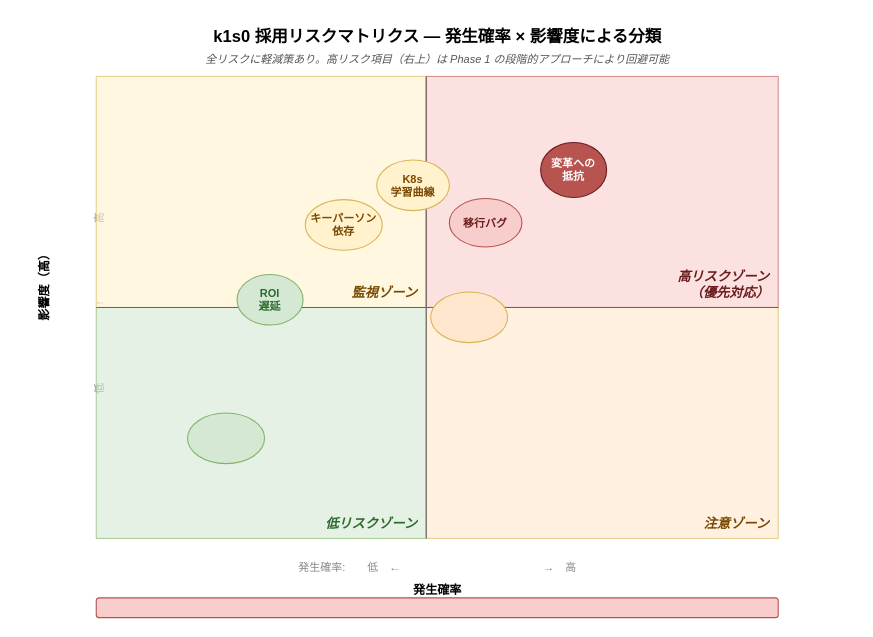
Image size: 873x637. Some labels were removed from this diagram. Each missing label, with the centre of its shape:
"Rust 採用難易度" goes at point (469, 317).
"【軽減策】変革への抵抗: Phase 1はゼロアーキテクチャ変更。CLI+DevContainerのみ → 抵抗なし" goes at point (436, 607).
"ベンダー ロックイン" goes at point (225, 438).
